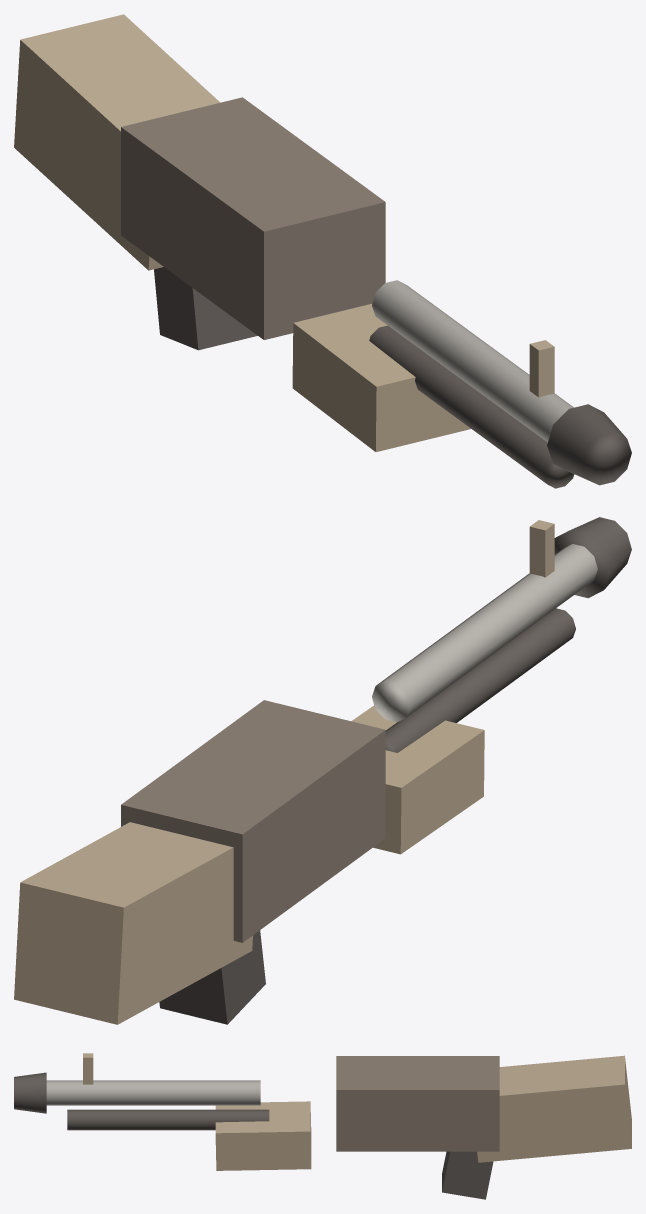
The model's file is weapon-shotgun.glb.
The picture shows the model from 3 angles, top to bottom: view 1: azimuth 30°, elevation 25°; view 2: azimuth 150°, elevation 25°; view 3: azimuth 270°, elevation 25°; orthographic projection. The views are drawn at different scales.
Parts seen in each view (by area): view 1: weapon-merged-body, weapon-merged-accent, weapon-merged-dark, weapon-merged-metal, weapon-merged-rubber; view 2: weapon-merged-accent, weapon-merged-body, weapon-merged-metal, weapon-merged-dark, weapon-merged-rubber; view 3: weapon-merged-accent, weapon-merged-body, weapon-merged-metal, weapon-merged-dark, weapon-merged-rubber.
Boxes of the visible parts, x1=… form: weapon-merged-body: x1=121, y1=97, x2=385, y2=339; weapon-merged-accent: x1=14, y1=14, x2=554, y2=451; weapon-merged-dark: x1=369, y1=325, x2=631, y2=488; weapon-merged-metal: x1=372, y1=280, x2=573, y2=442; weapon-merged-rubber: x1=154, y1=267, x2=257, y2=350; weapon-merged-accent: x1=14, y1=520, x2=554, y2=1024; weapon-merged-body: x1=121, y1=700, x2=385, y2=942; weapon-merged-metal: x1=372, y1=544, x2=597, y2=722; weapon-merged-dark: x1=385, y1=517, x2=631, y2=752; weapon-merged-rubber: x1=159, y1=930, x2=265, y2=1024; weapon-merged-accent: x1=83, y1=1053, x2=631, y2=1170; weapon-merged-body: x1=336, y1=1056, x2=499, y2=1151; weapon-merged-metal: x1=46, y1=1080, x2=260, y2=1105; weapon-merged-dark: x1=14, y1=1072, x2=269, y2=1130; weapon-merged-rubber: x1=442, y1=1151, x2=493, y2=1199.
Size of the model in its own units: 0.27 by 0.5012 by 2.08.
